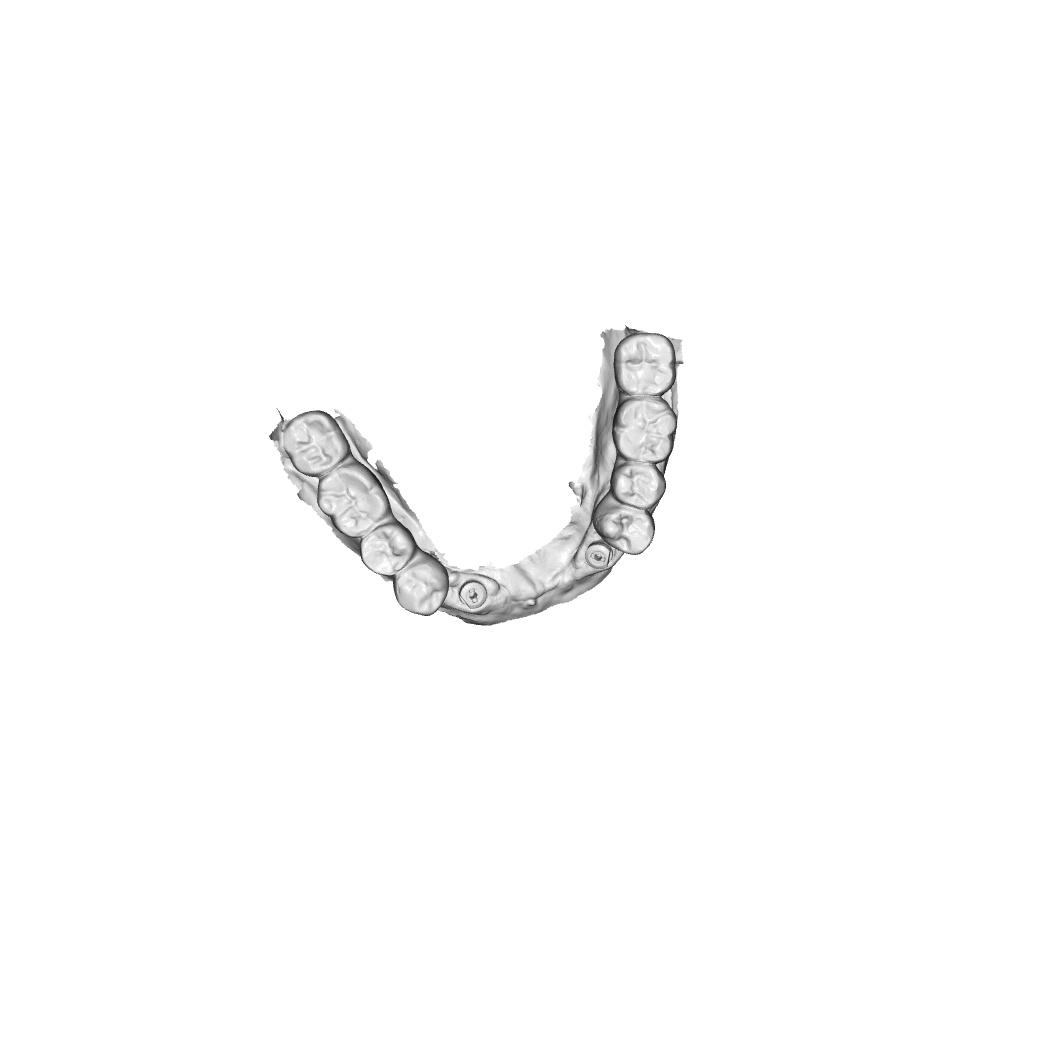implant_minus: (457, 579, 489, 610), (584, 541, 614, 570)
molar: (315, 461, 392, 538), (281, 409, 351, 478), (611, 397, 678, 463), (612, 332, 678, 396)
premolar: (591, 492, 656, 556), (392, 552, 450, 617), (358, 522, 417, 577), (609, 460, 667, 511)
